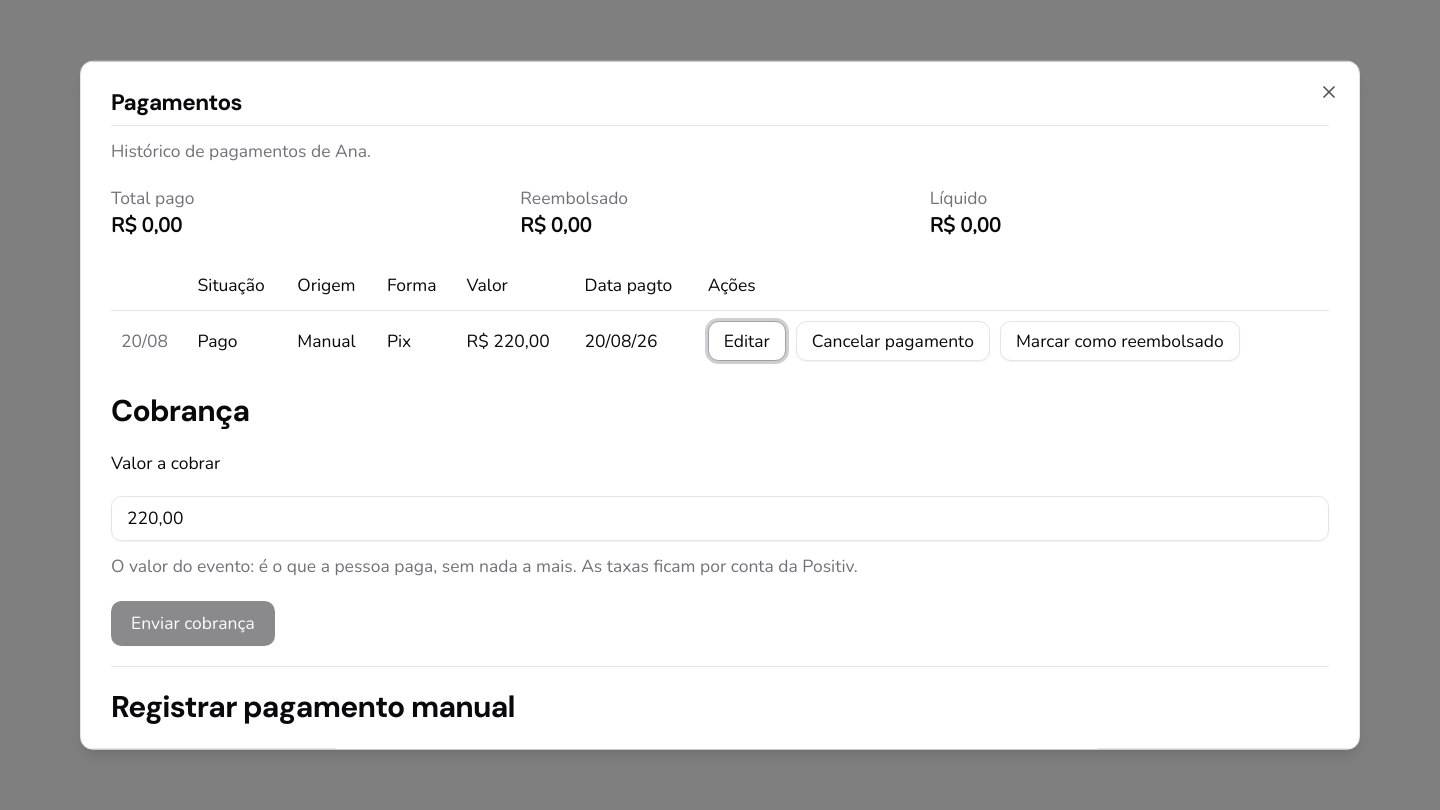
Test: ManagePaymentModal › refuses a second click while a refund is in flight
Click the button "Marcar como reembolsado" at point(1120, 341), box [1000, 321, 1240, 361]
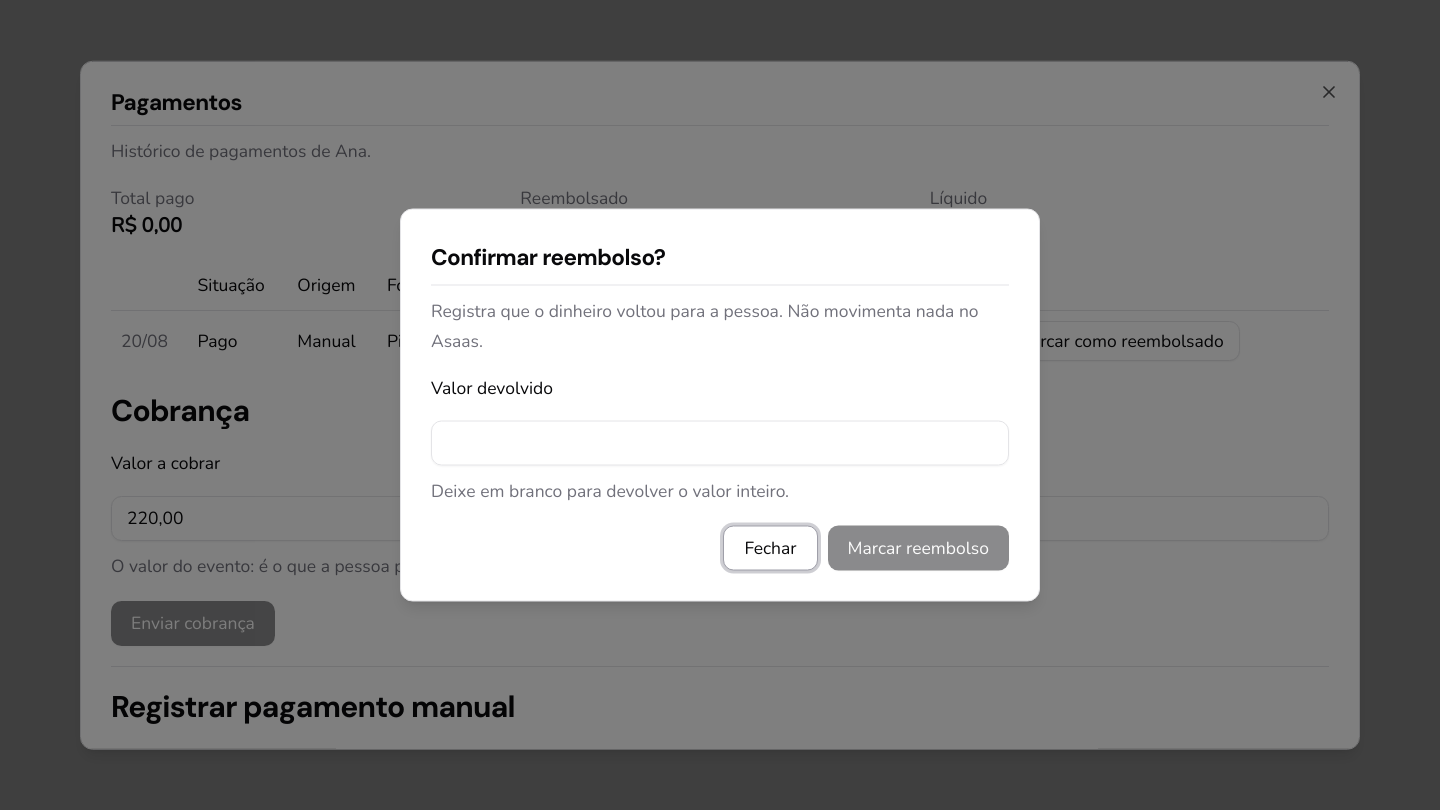
Expected: the button "Marcar reembolso" is disabled, [828, 526, 1009, 570]
